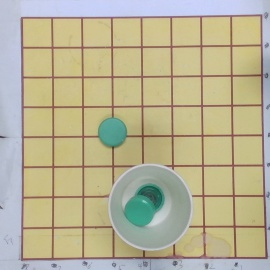cup_green: (108, 162, 196, 250)
green: (97, 116, 127, 147)
